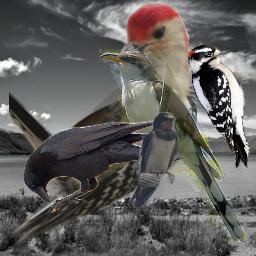Crow: (23, 120, 186, 215)
Cuckoo: (99, 49, 246, 243)
Swallow: (128, 112, 179, 208)
Woodpecker: (9, 2, 197, 251), (188, 44, 251, 168)
